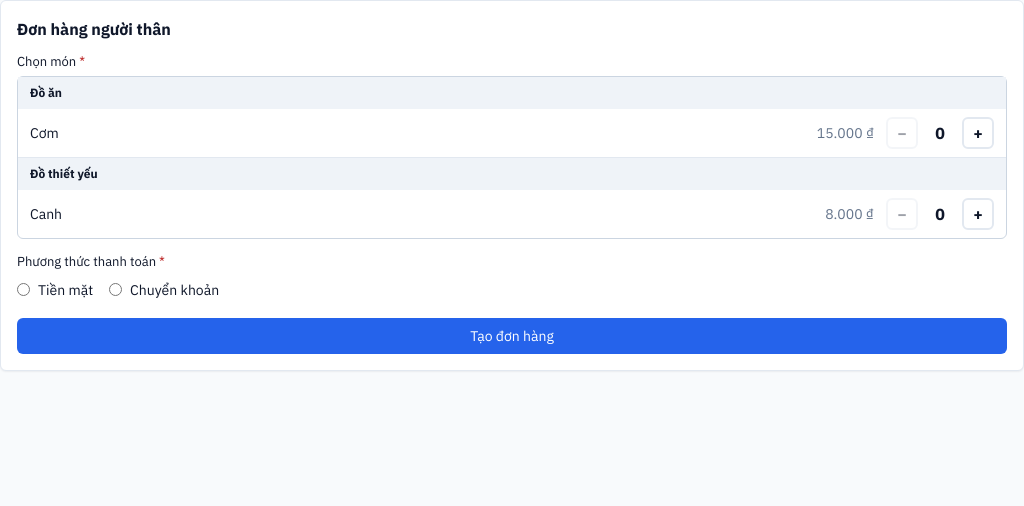
Test case: RelativeOrderForm — valid submission › shows a pending-queue notice after submit (order is not paid yet)
The image size is (1024, 506).
Click the button "+" in the row of "15.000 ₫".
click(978, 133)  # box [962,117,994,149]
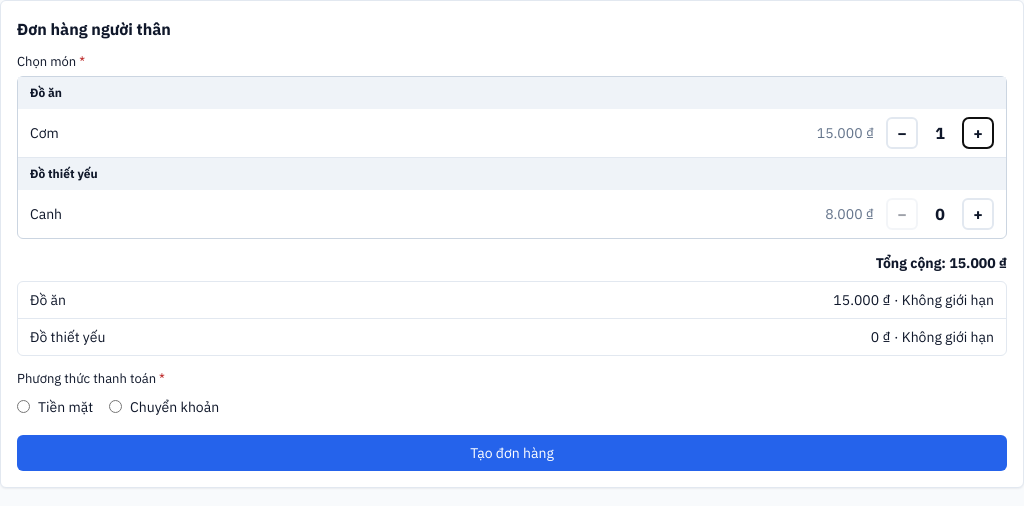
Click the radio button labelled "Tiền mặt".
click(24, 407)  # box [17,400,30,413]
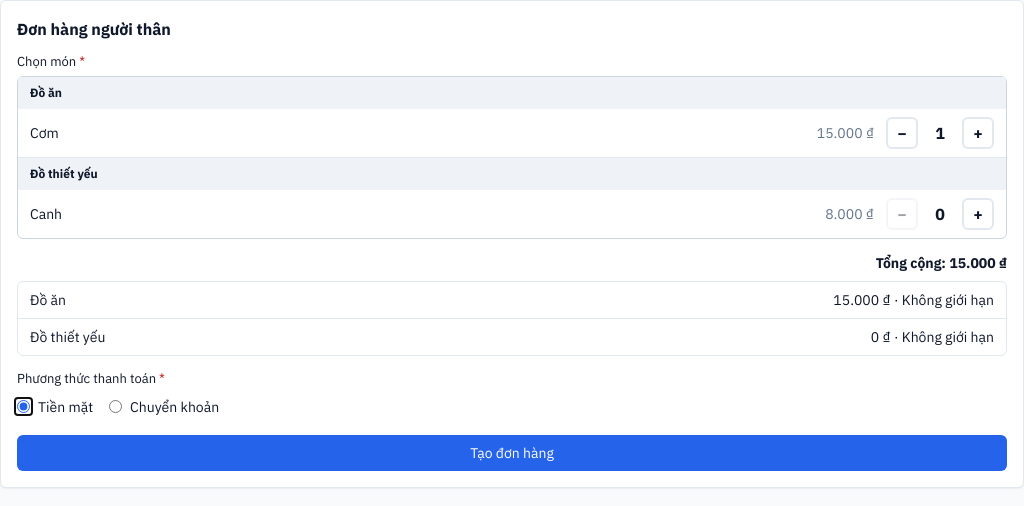
Click the button "Tạo đơn hàng".
click(512, 453)  # box [17,435,1007,471]
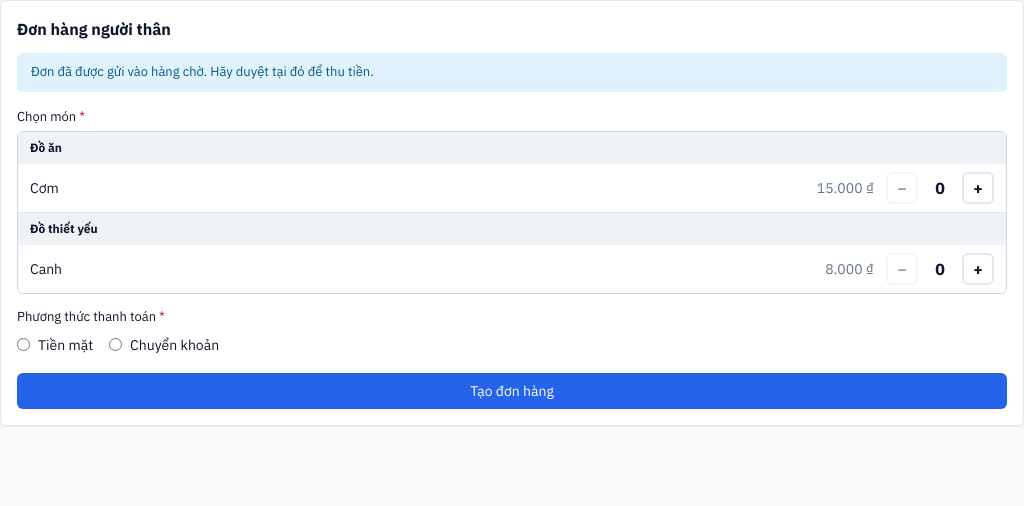
expect the text "Đơn đã được gửi vào hàng chờ. Hãy duyệt tại đó để thu tiền." is shown: met, box [17,53,1007,92]
